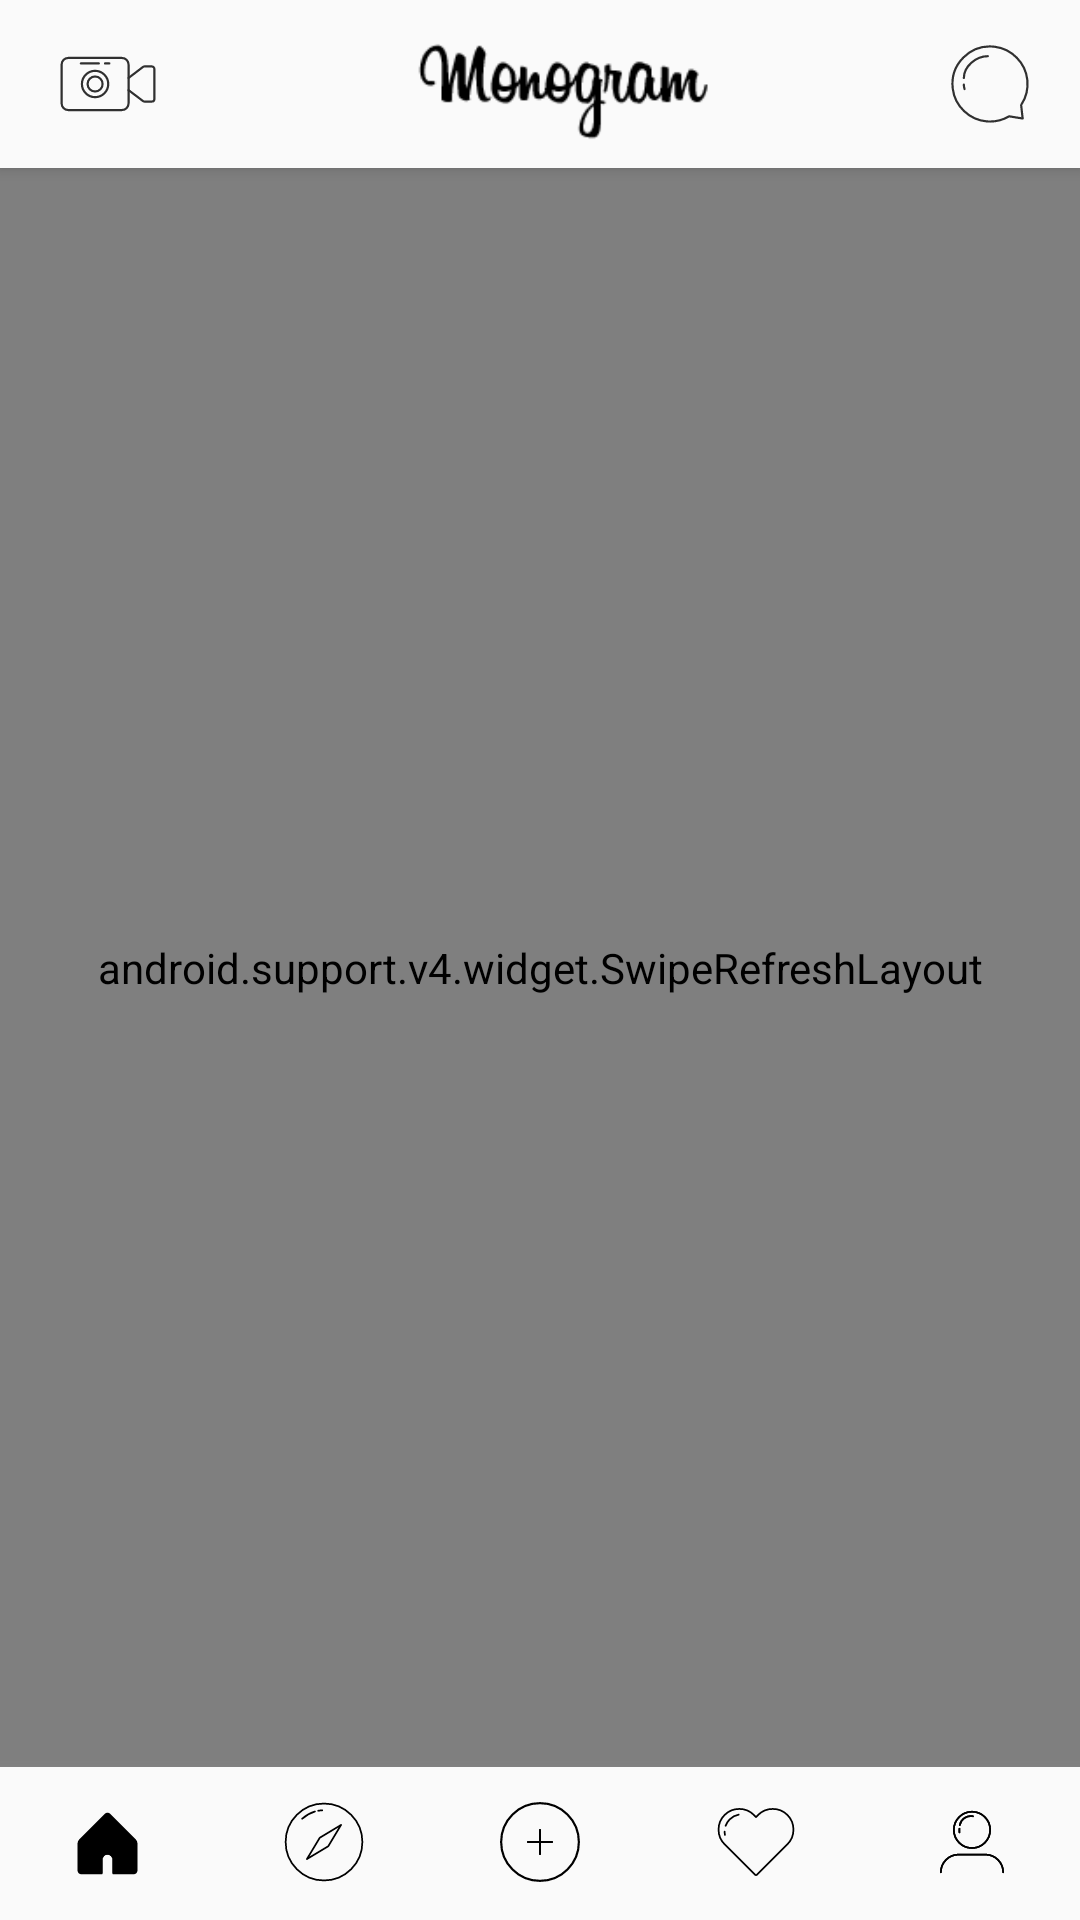

Screen size 1080*1920. Icon name, then its center in pixels as [x,y]:
add: [540,1842]
camera: [108,84]
chat: [990,84]
discover: [324,1842]
home: [107,1843]
profile: [972,1842]
